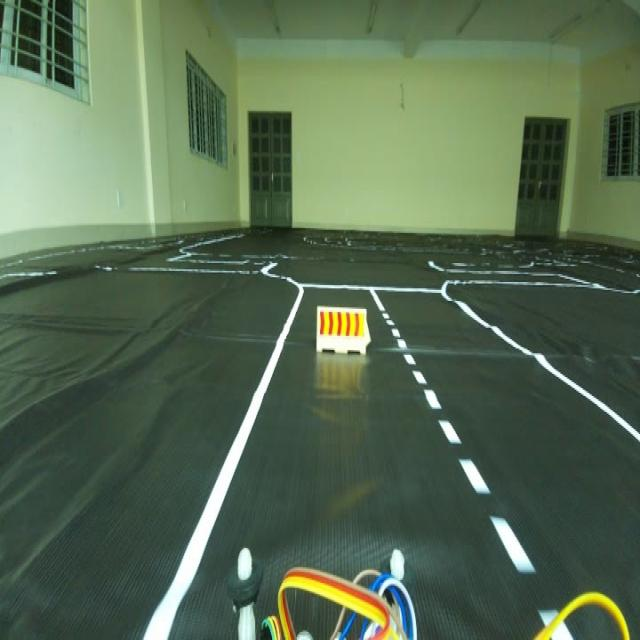roadblock: (314, 298, 373, 371)
